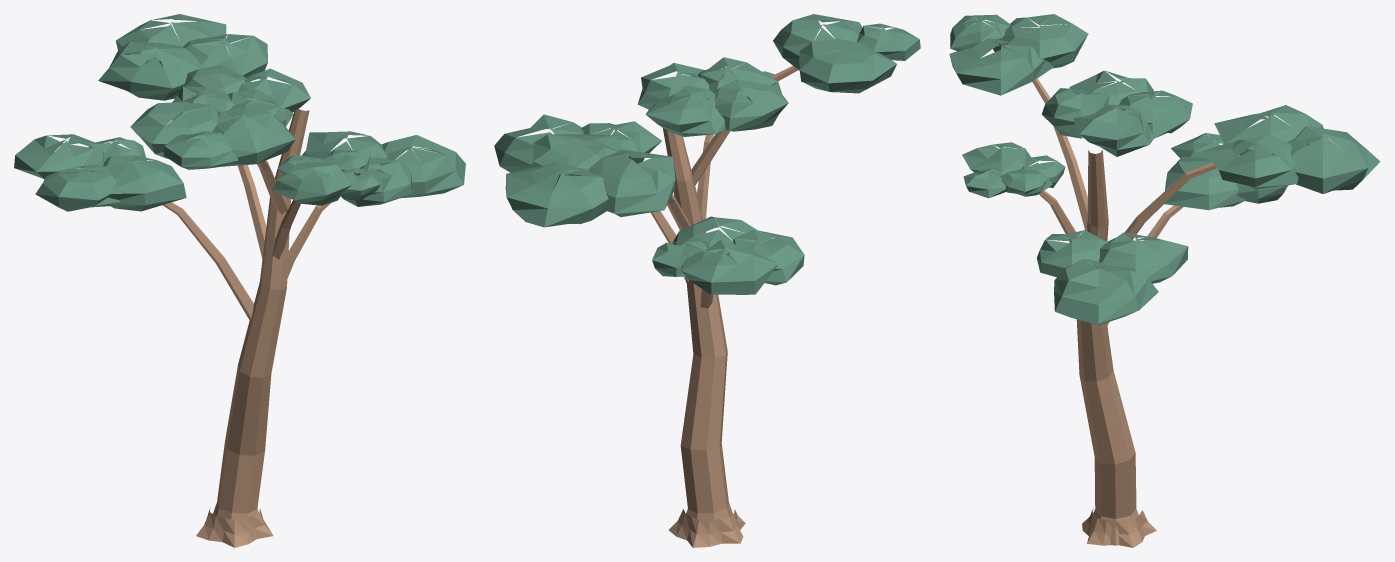
The model's file is temperate-forest-ecology-scots-pine-veteran-b5e9e504__3806.glb.
3 renders of one model, left to right at view 1: azimuth 30°, elevation 25°; view 2: azimuth 150°, elevation 25°; view 3: azimuth 270°, elevation 25°, orthographic. The views are drawn at different scales.
Parts seen in each view (by area): view 1: scots-pine-veteran; view 2: scots-pine-veteran; view 3: scots-pine-veteran.
Boxes of the visible parts, <box> form: scots-pine-veteran: <box>14,14,465,547</box>; scots-pine-veteran: <box>494,14,920,547</box>; scots-pine-veteran: <box>949,14,1380,547</box>.
Bounding box in the file's own units: 10.57 × 13.27 × 11.14.
